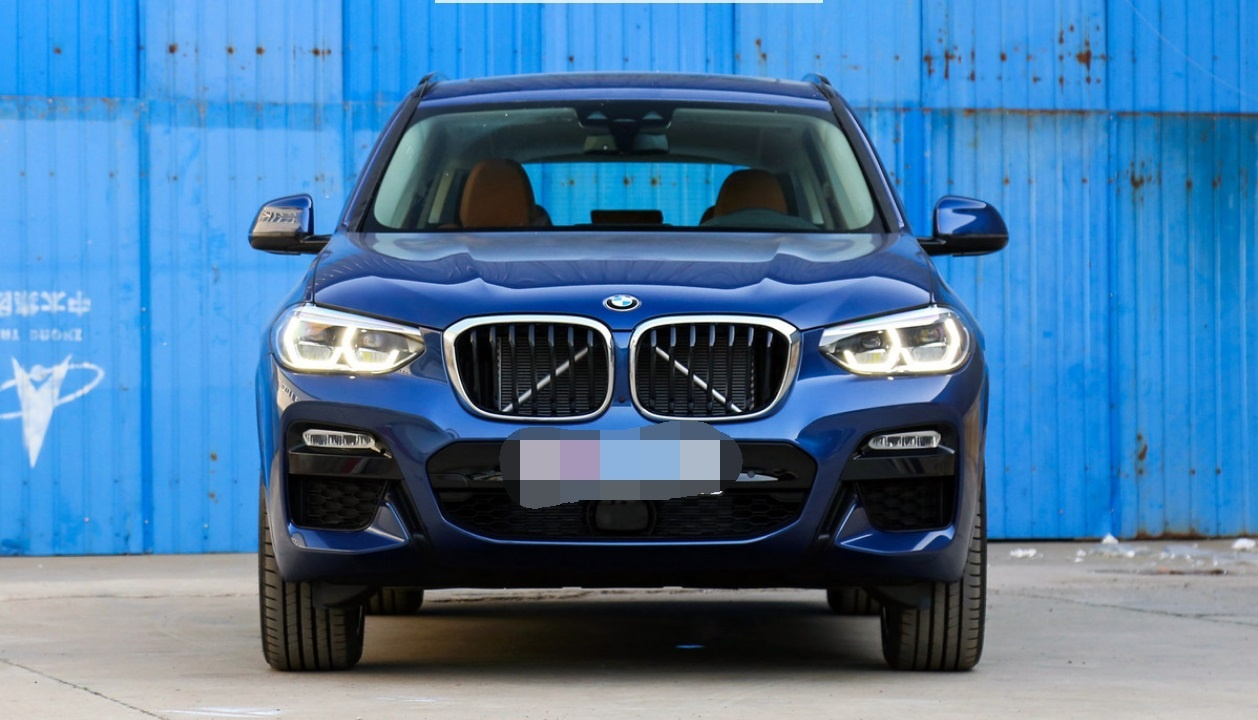SUV: (245, 69, 1010, 682)
